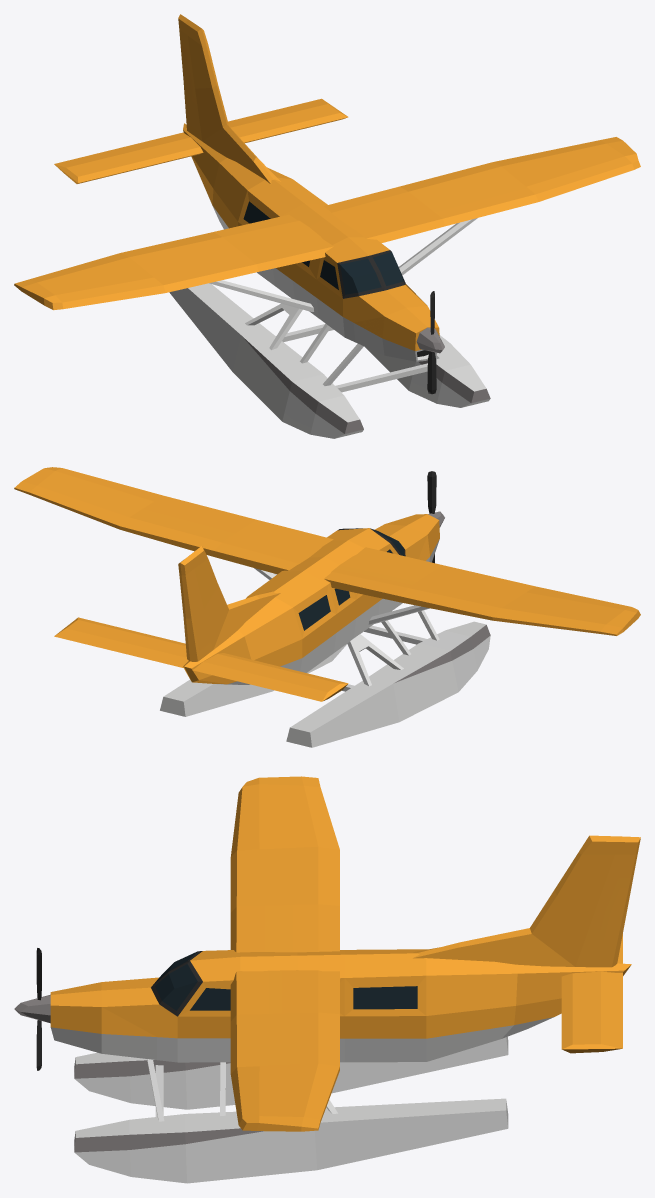
File: floatplane.glb
The picture shows the model from 3 angles, top to bottom: view 1: azimuth 30°, elevation 25°; view 2: azimuth 150°, elevation 25°; view 3: azimuth 270°, elevation 25°; orthographic projection. The views are drawn at different scales.
Parts seen in each view (by area): view 1: floatplane-base, floatplane-propeller; view 2: floatplane-base, floatplane-propeller; view 3: floatplane-base, floatplane-propeller.
Boxes of the visible parts, x1,y1,x2,y2 form: floatplane-base: [14, 14, 640, 438]; floatplane-propeller: [416, 291, 444, 394]; floatplane-base: [14, 467, 640, 747]; floatplane-propeller: [427, 471, 444, 563]; floatplane-base: [50, 776, 640, 1183]; floatplane-propeller: [14, 948, 50, 1070].
Bounding box in the file's own units: 13.7 × 5.4 × 10.34.
1 material, 1 textured.
